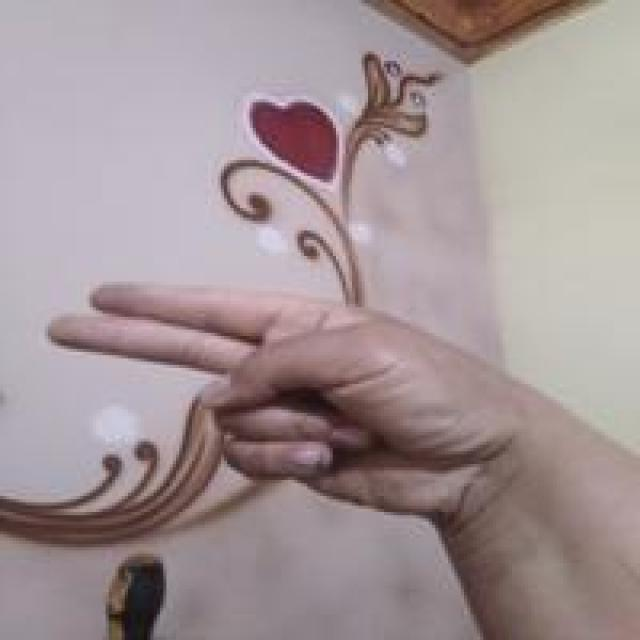H: (40, 278, 546, 532)
